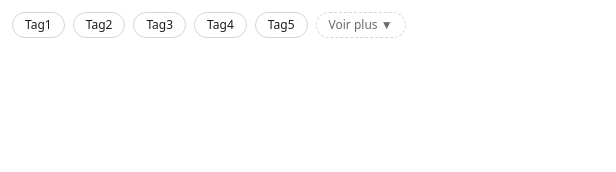
Test: TagFilter — bouton Voir plus › développe tous les tags au clic sur "Voir plus"
Click the button "Voir plus ▼" at (360, 25), box [316,12,406,38]
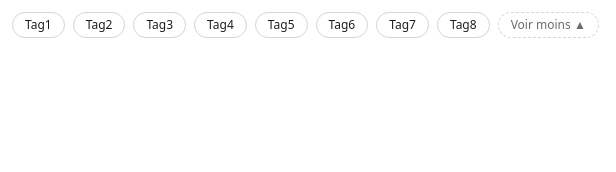
expect the number of buttons "Tag1" is 8: met
